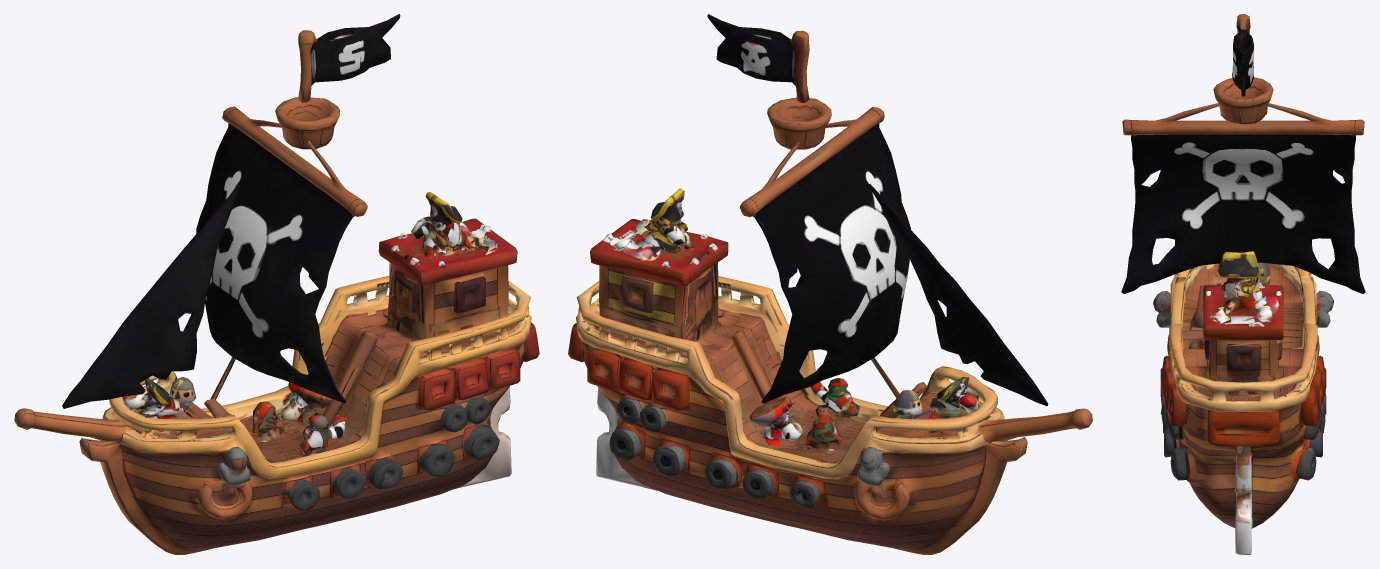
File: Meshy_AI_Sunset_Pirate_Voyage_0606175625_texture.fbx
The picture shows the model from 3 angles, left to right: view 1: azimuth 30°, elevation 25°; view 2: azimuth 150°, elevation 25°; view 3: azimuth 270°, elevation 25°; orthographic projection. The views are drawn at different scales.
Visible parts, largest first — view 1: Mesh_0; view 2: Mesh_0; view 3: Mesh_0.
Part boxes in pixels (<box>): Mesh_0: <box>14,14,539,554</box>; Mesh_0: <box>568,14,1092,554</box>; Mesh_0: <box>1121,14,1365,554</box>.
Bounding box in the file's own units: 191 × 177 × 87.28.
1 material, 1 textured.
